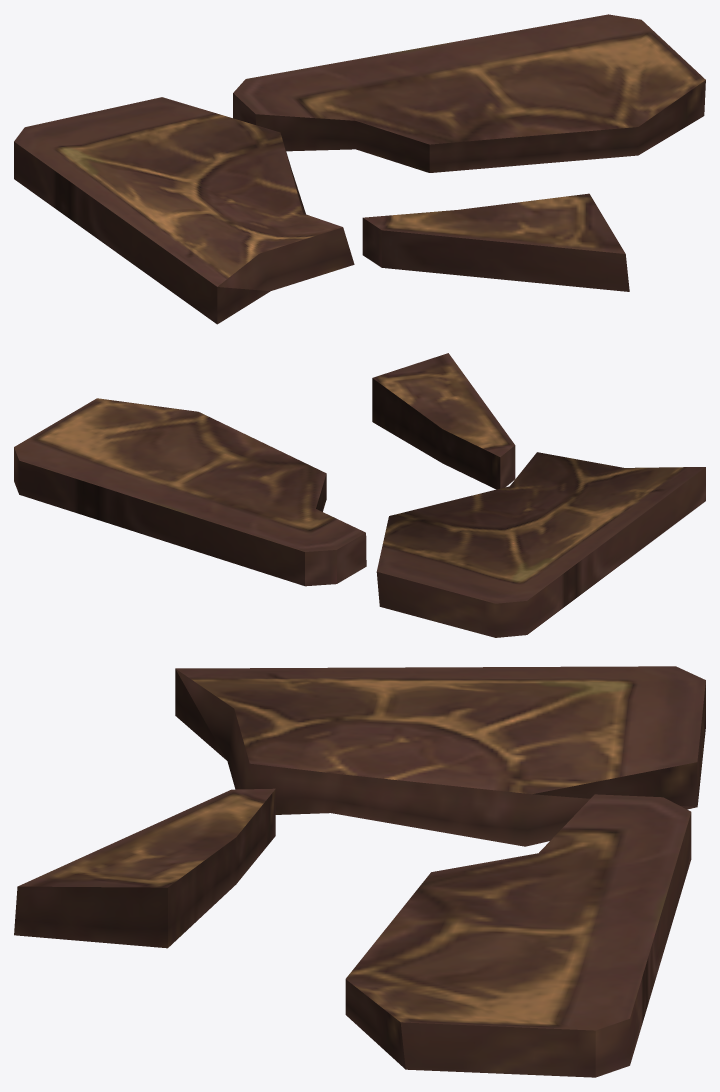
3 views of the same model, one above another, from view 1: azimuth 30°, elevation 25°; view 2: azimuth 150°, elevation 25°; view 3: azimuth 270°, elevation 25° (orthographic). The views are drawn at different scales.
Parts seen in each view (by area): view 1: s_wj20; view 2: s_wj20; view 3: s_wj20.
Boxes of the visible parts, left/top/right/bottom form: s_wj20: left=14, top=14, right=705, bottom=324; s_wj20: left=14, top=353, right=705, bottom=637; s_wj20: left=14, top=666, right=705, bottom=1077.
Bounding box in the file's own units: 567 × 44.05 × 455.
Materials: 1 (1 with a texture image).
